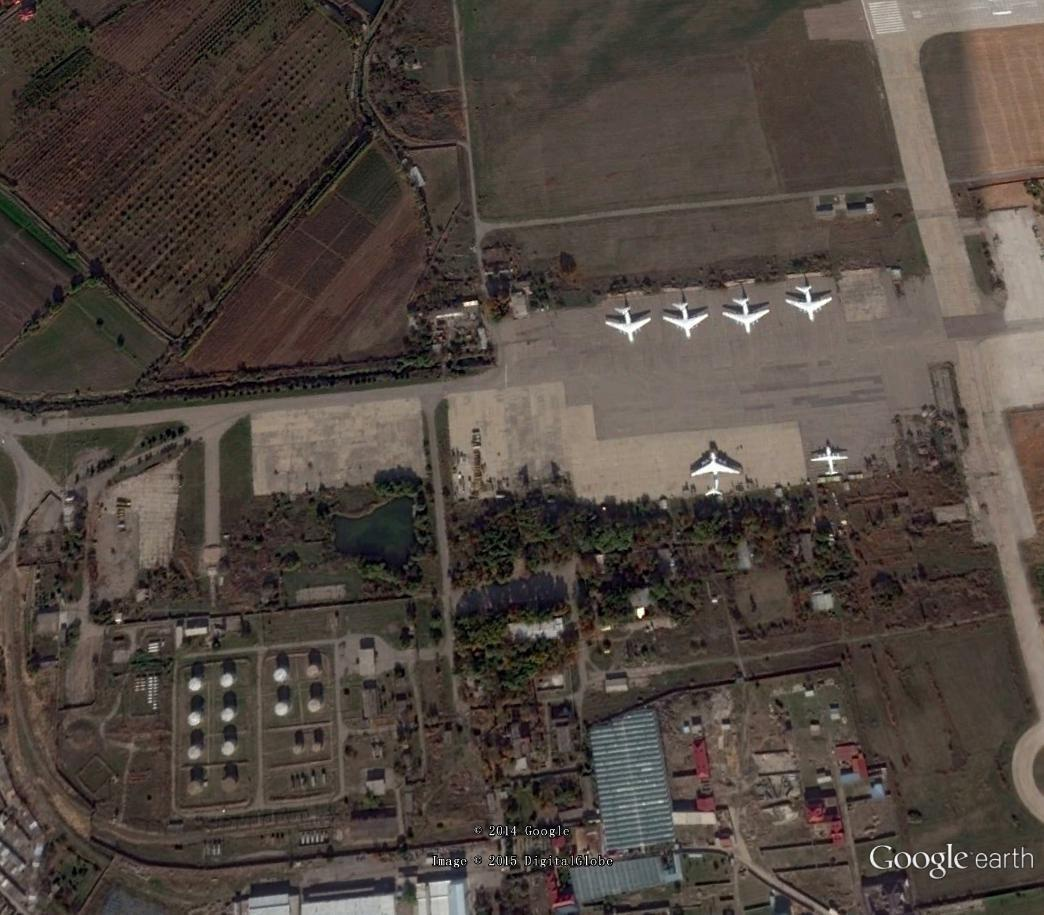aircraft: (687, 442, 751, 501), (783, 274, 840, 330), (718, 292, 777, 343), (657, 298, 714, 343), (598, 303, 657, 346), (808, 439, 855, 480)
